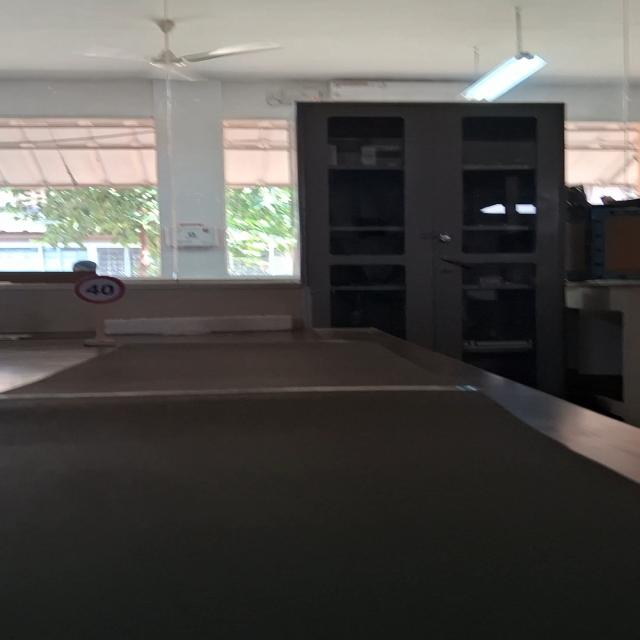Speed40: (72, 274, 128, 305)
